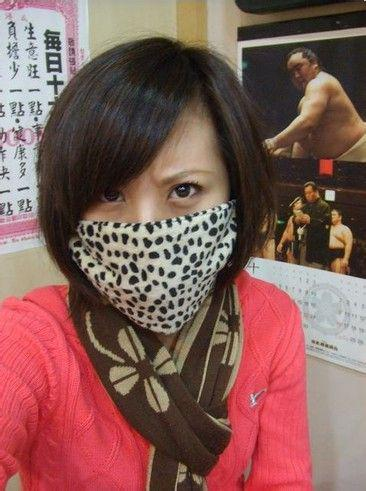NONE: (289, 64, 311, 87)
OK: (62, 157, 236, 332)
